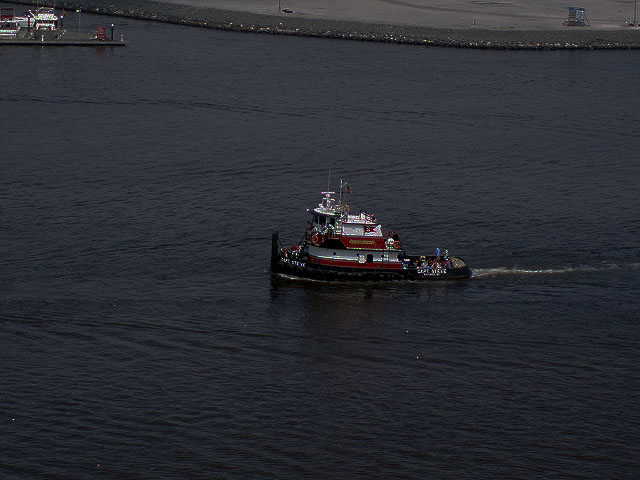tug_boat: (270, 172, 474, 277)
